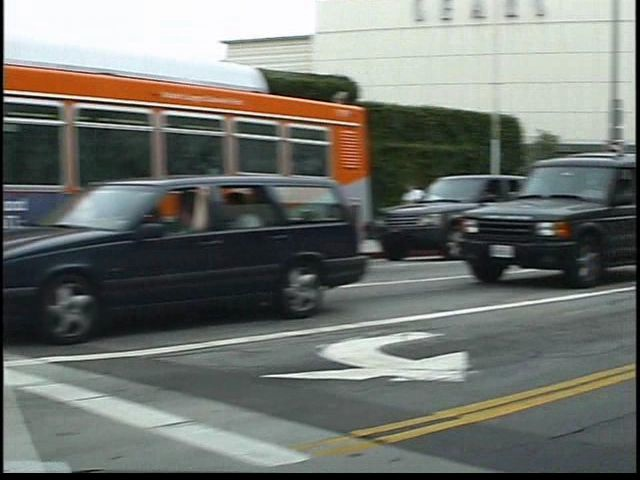person: (419, 177, 449, 244)
